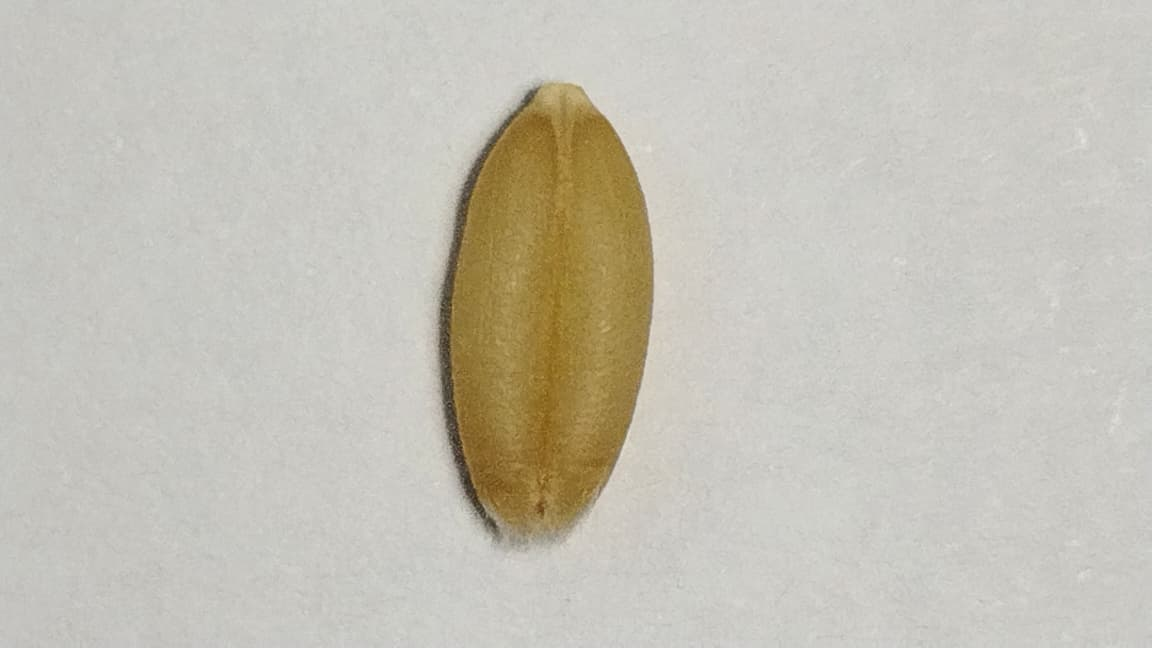healthy: (449, 83, 651, 533)
